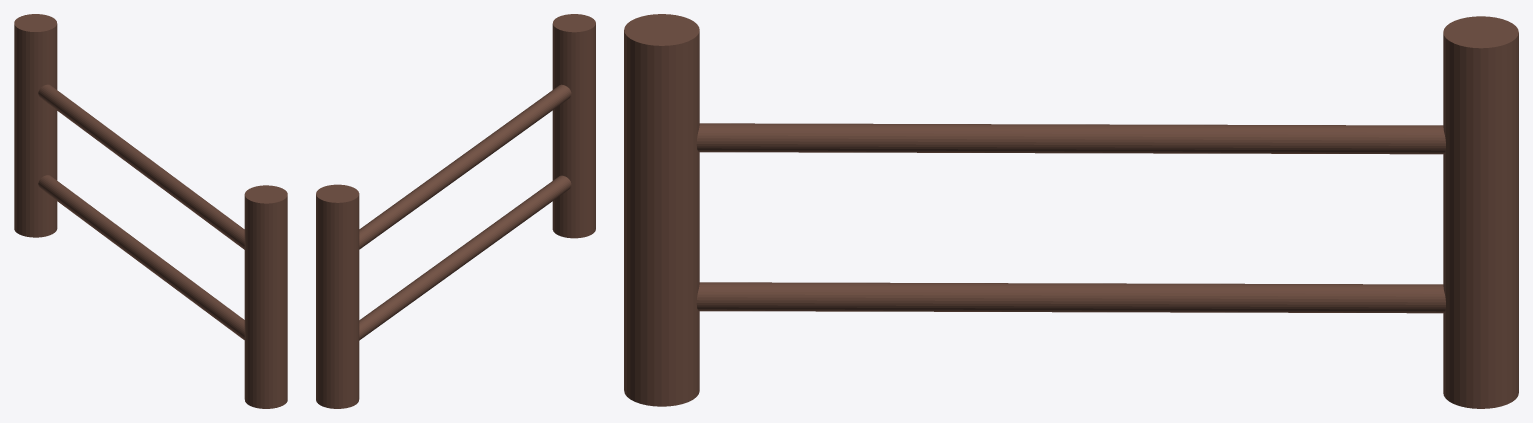
The model's file is fence.glb.
3 views of the same model, side by side, from view 1: azimuth 30°, elevation 25°; view 2: azimuth 150°, elevation 25°; view 3: azimuth 270°, elevation 25° (orthographic). The views are drawn at different scales.
Parts seen in each view (by area): view 1: tree.004; view 2: tree.004; view 3: tree.004.
Part boxes in pixels (x1,y1,x2,y2): tree.004: [14, 14, 287, 408]; tree.004: [316, 14, 595, 408]; tree.004: [624, 14, 1518, 408].
Size of the model in its own units: 0.3473 by 1.7 by 3.83.
